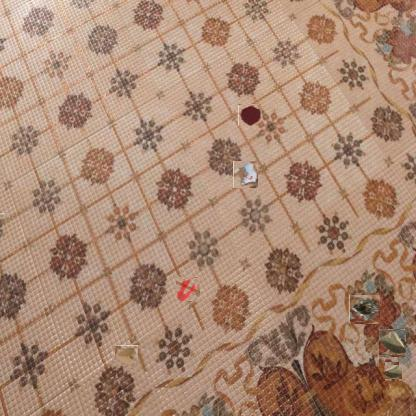dirty: (350, 294, 380, 323), (379, 329, 406, 357), (233, 160, 258, 188), (114, 345, 138, 366), (383, 363, 401, 381)
liquid: (176, 277, 200, 301), (238, 104, 261, 126)
